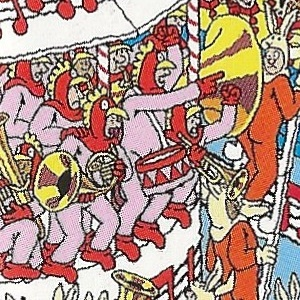Odlaw: (112, 118, 126, 182)
